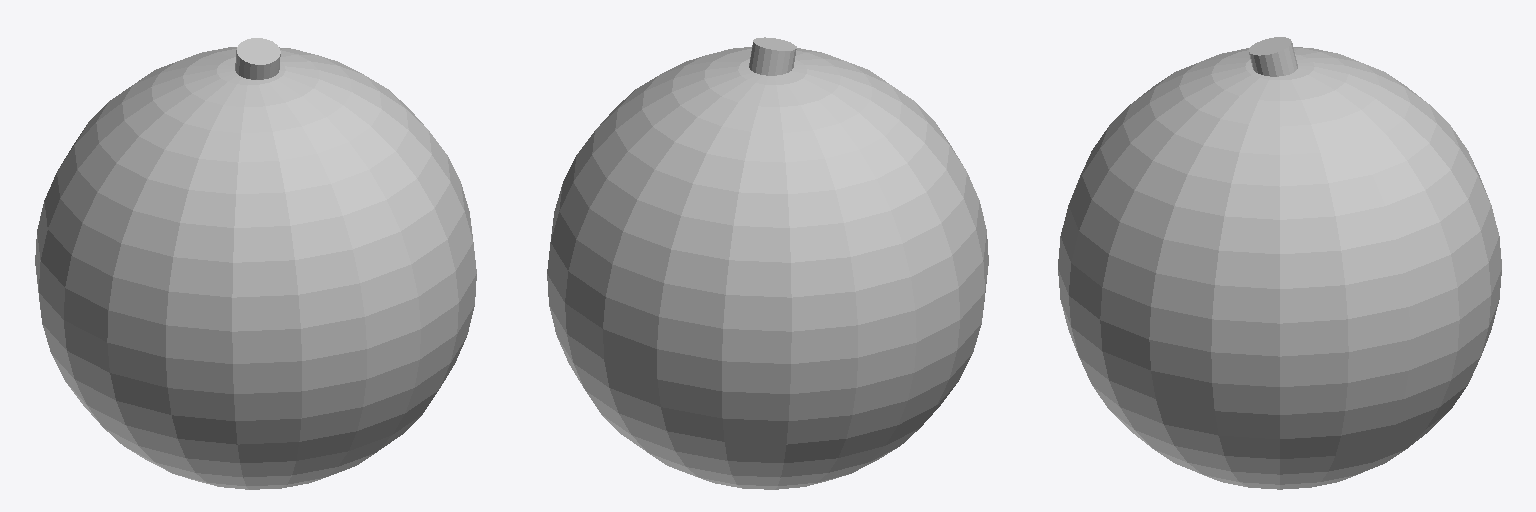
Rendered from orange.obj.
The picture shows the model from 3 angles: view 1: azimuth 30°, elevation 25°; view 2: azimuth 150°, elevation 25°; view 3: azimuth 270°, elevation 25°; orthographic projection.
Visible parts, largest first — view 1: pSphere1, pCylinder1; view 2: pSphere1, pCylinder1; view 3: pSphere1, pCylinder1.
Part boxes in pixels (left/top/right/bottom): pSphere1: left=35, top=47, right=476, bottom=489; pCylinder1: left=235, top=38, right=280, bottom=79; pSphere1: left=547, top=47, right=988, bottom=489; pCylinder1: left=749, top=37, right=796, bottom=75; pSphere1: left=1058, top=47, right=1501, bottom=489; pCylinder1: left=1249, top=37, right=1297, bottom=76.
Bounding box in the file's own units: 2 × 2.12 × 2.